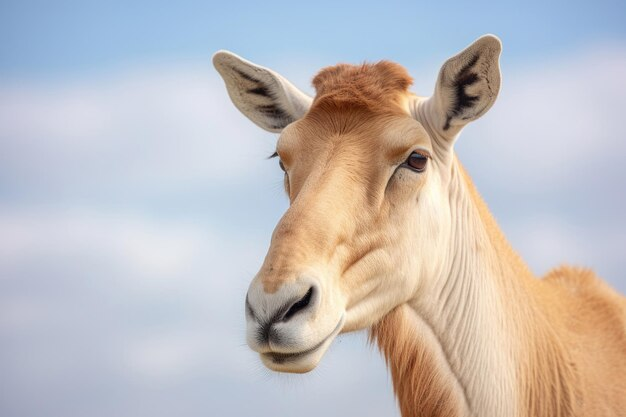saiga: (208, 28, 412, 389)
